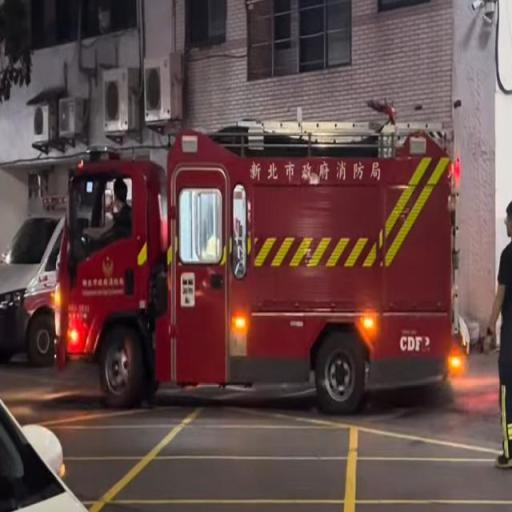fire truck: (40, 80, 470, 417)
